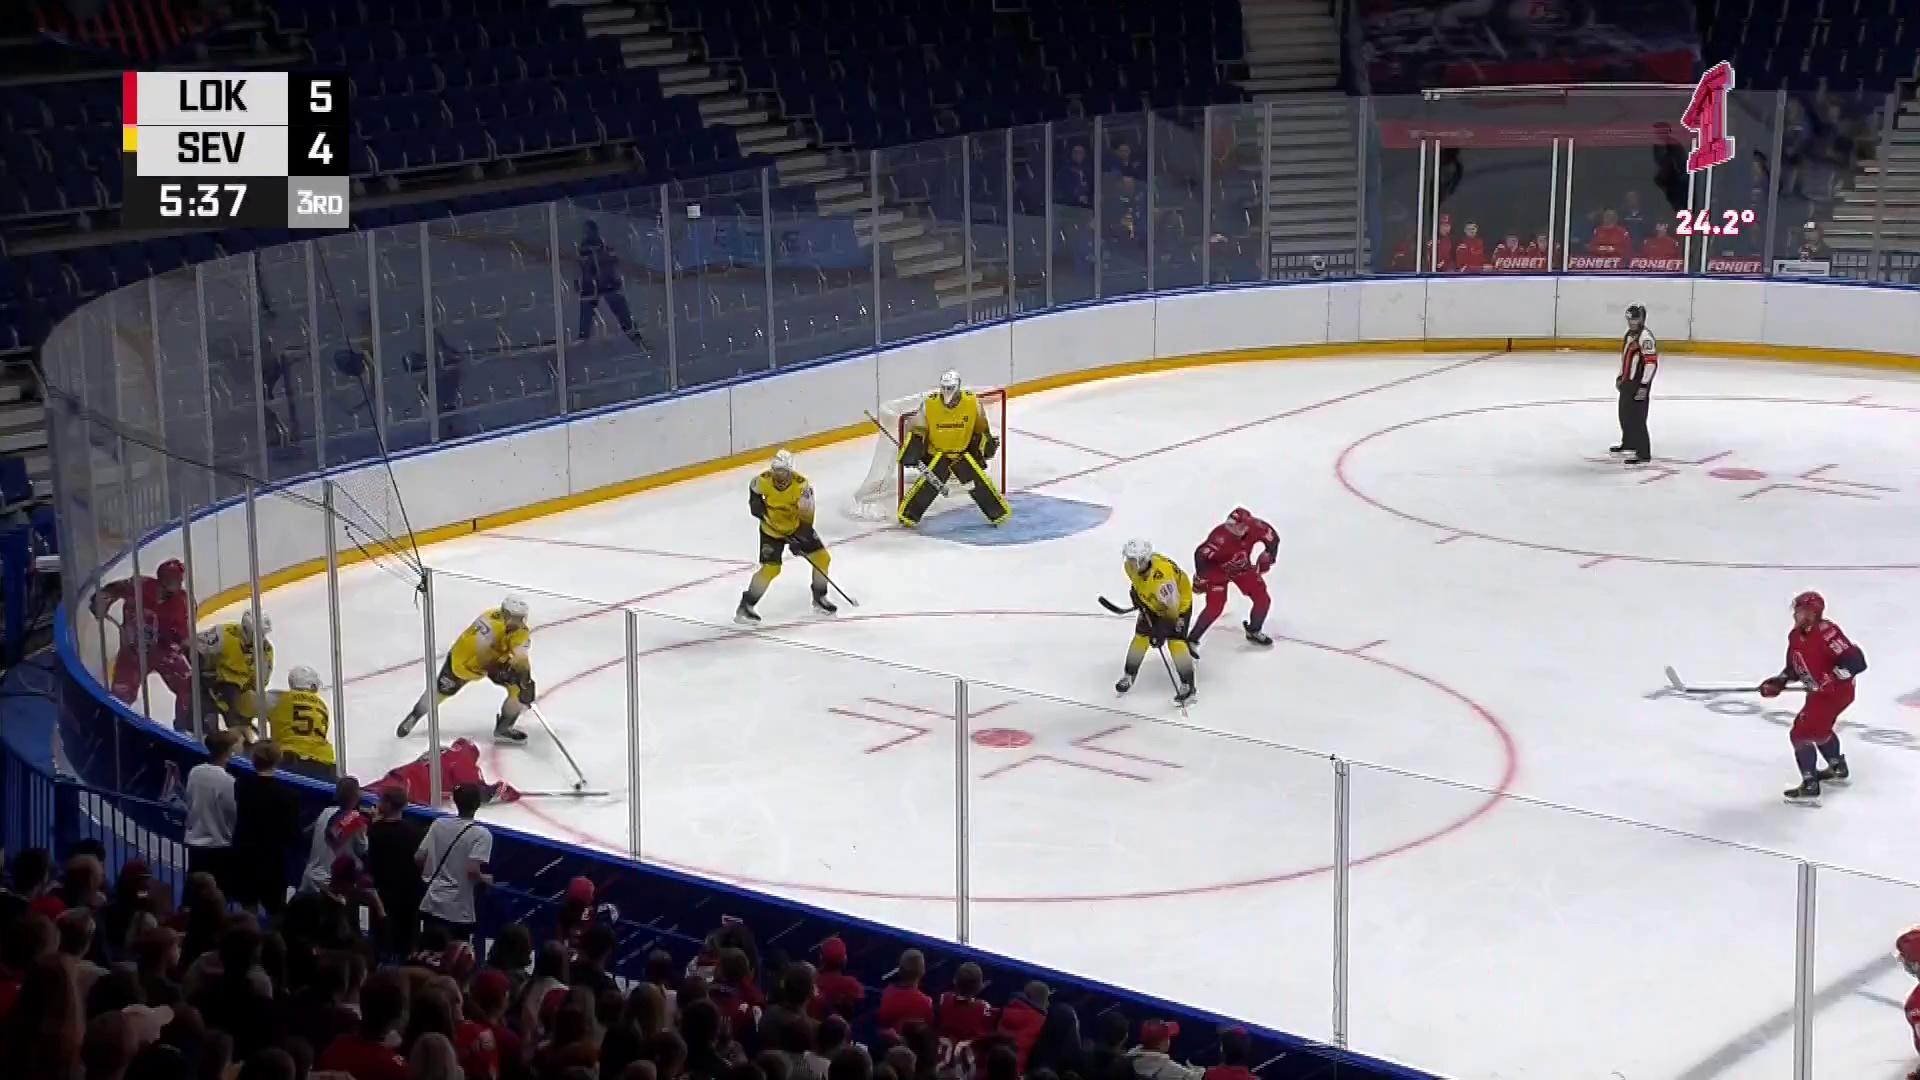ball: (572, 782, 583, 791)
